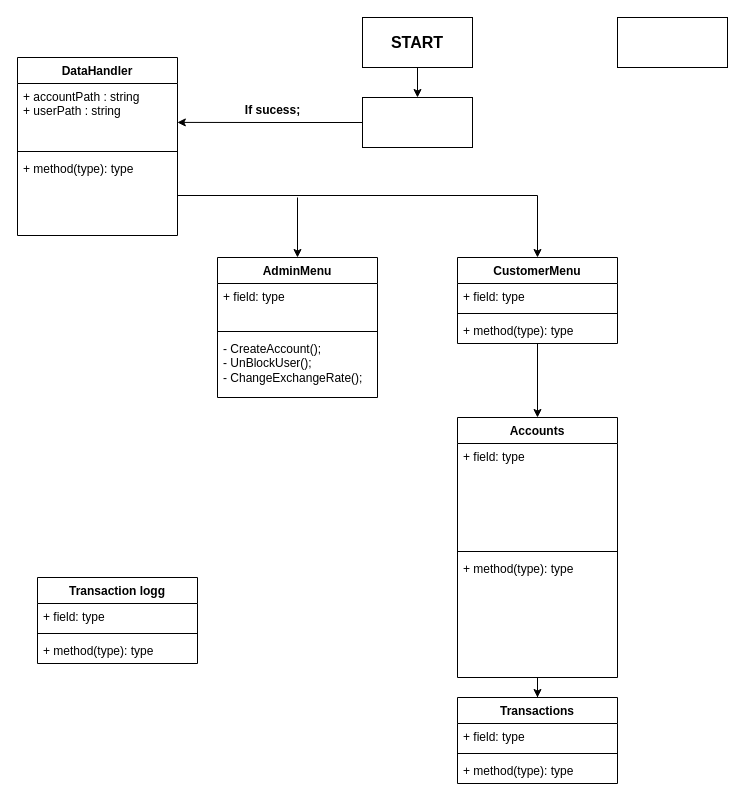
This 745x804 diagram has some shape labels left out. The shapes that lost their labels are listed below. From the top down, each one's centre as x and y in pixels, then its label:
point (672, 42): EXIT
point (417, 122): LogIn();
